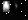person: (4, 2, 11, 13), (14, 3, 21, 13)
